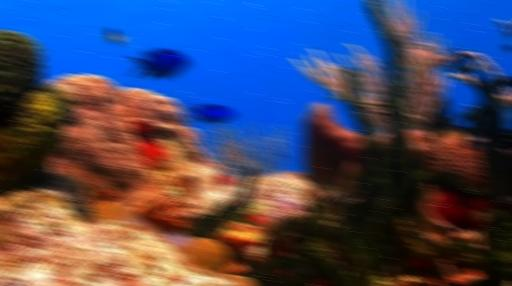Fish: (129, 49, 188, 79), (185, 104, 234, 122), (105, 27, 124, 44)
